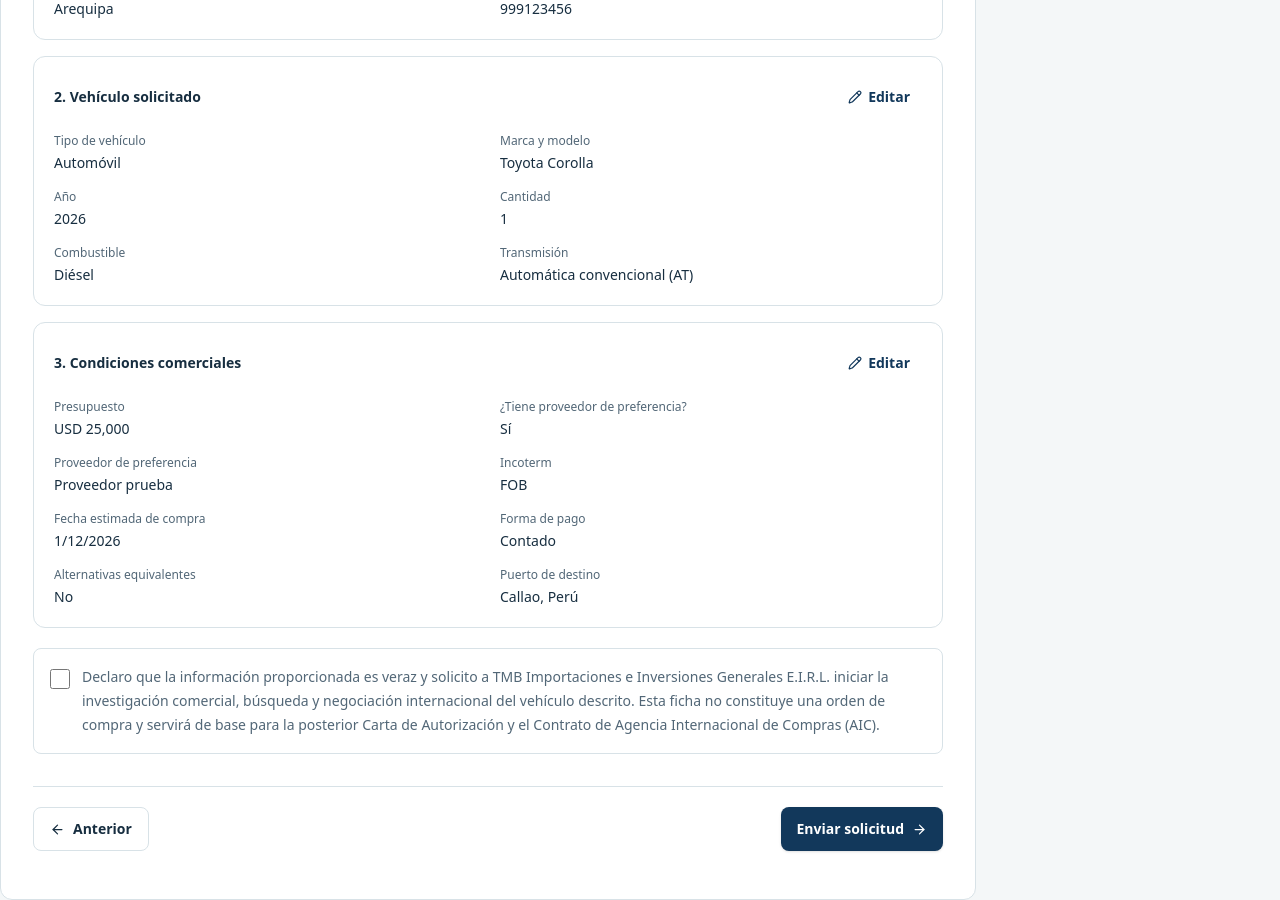
Test: Flujo público FRI › no permite enviar sin aceptar la declaración
(page scrolled)
Step 1. Click the button "Enviar solicitud" → (862, 829), box [780, 807, 943, 851]
(page scrolled)
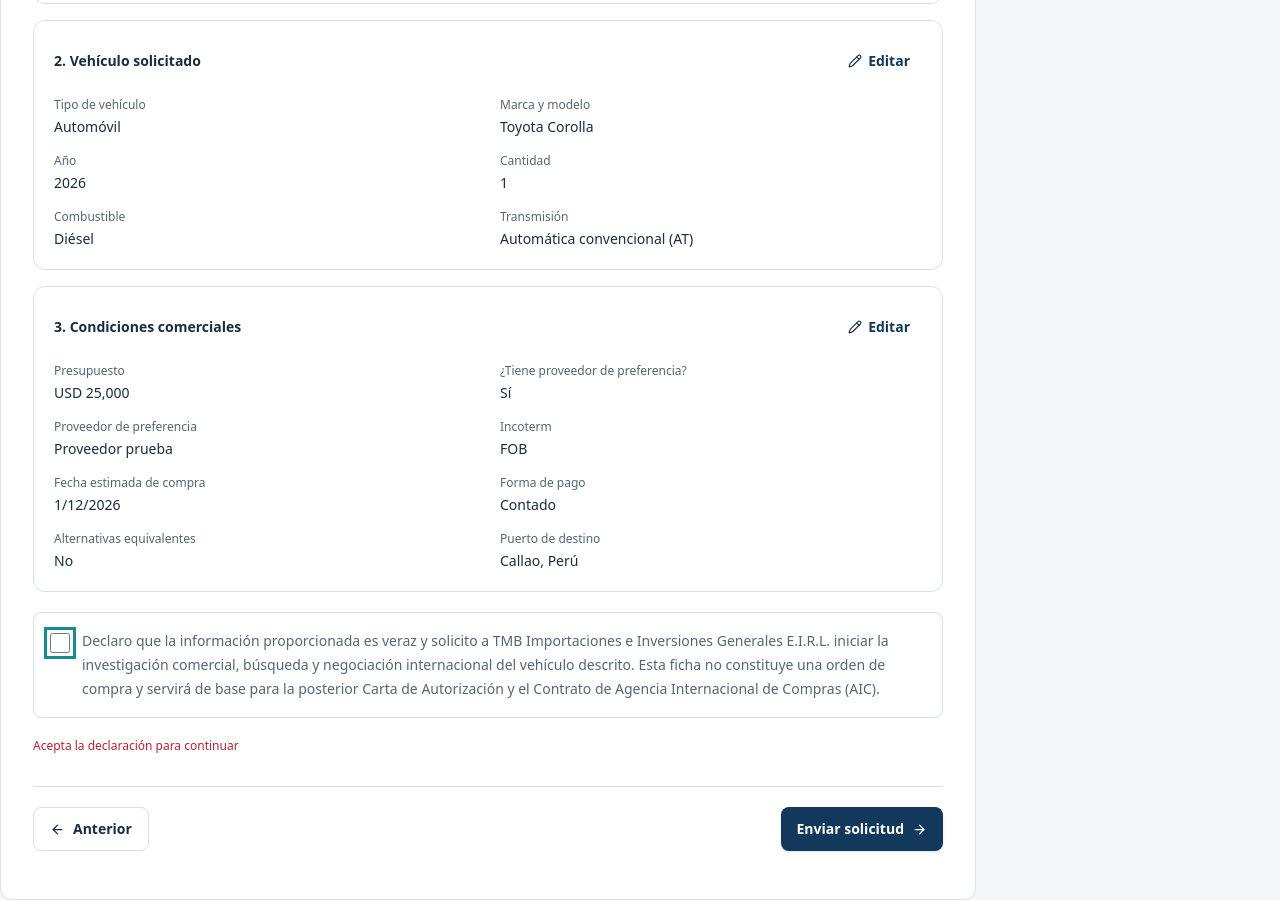
Now the text "Acepta la declaración para continuar" is shown, box [33, 737, 239, 754]
